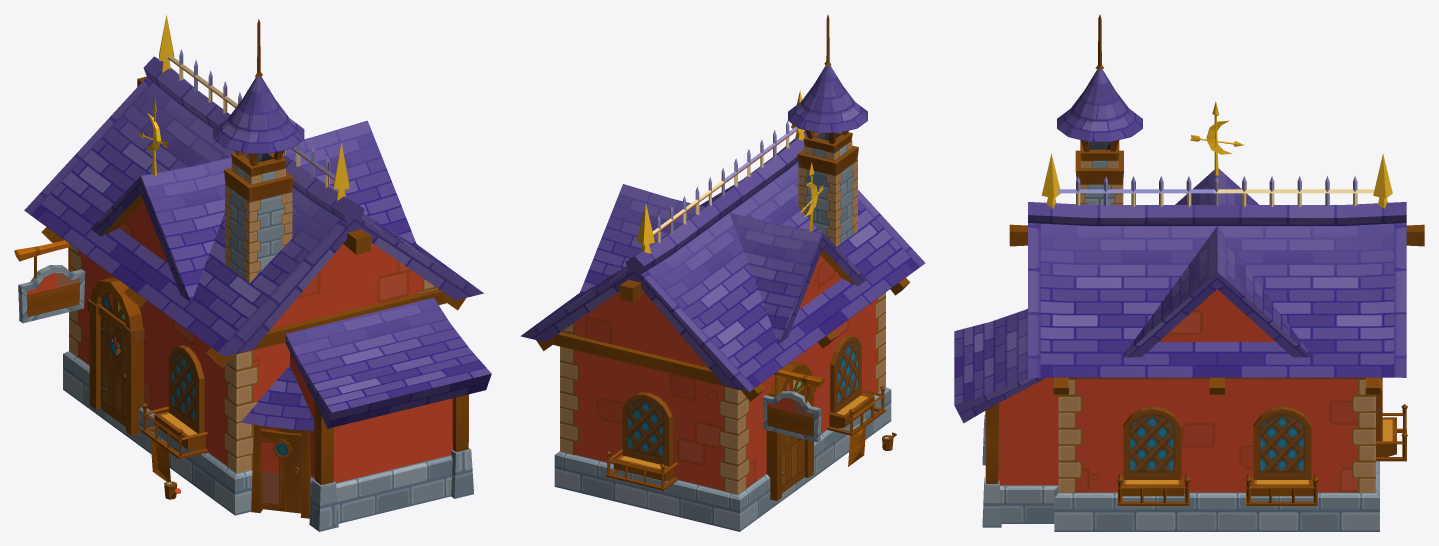
File: HOS0110007.FBX
3 renders of one model, left to right at view 1: azimuth 30°, elevation 25°; view 2: azimuth 150°, elevation 25°; view 3: azimuth 270°, elevation 25°, orthographic. The views are drawn at different scales.
Visible parts, largest first — view 1: smHOS0110007; view 2: smHOS0110007; view 3: smHOS0110007.
Part boxes in pixels (x1,y1,x2,y2): smHOS0110007: [14, 14, 491, 531]; smHOS0110007: [520, 14, 925, 531]; smHOS0110007: [954, 14, 1424, 531].
Size of the model in its own units: 7.22 by 10.53 by 10.13.
Materials: 1 (1 with a texture image).
